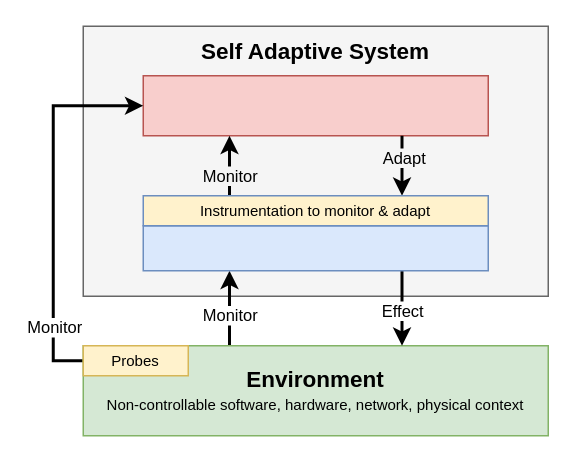
This 575x462 diagram has some shape labels left out. The centre of each missing label's shape, as x and y in pixels:
Managed System: the point at 315,247
Managing System: the point at 315,105
